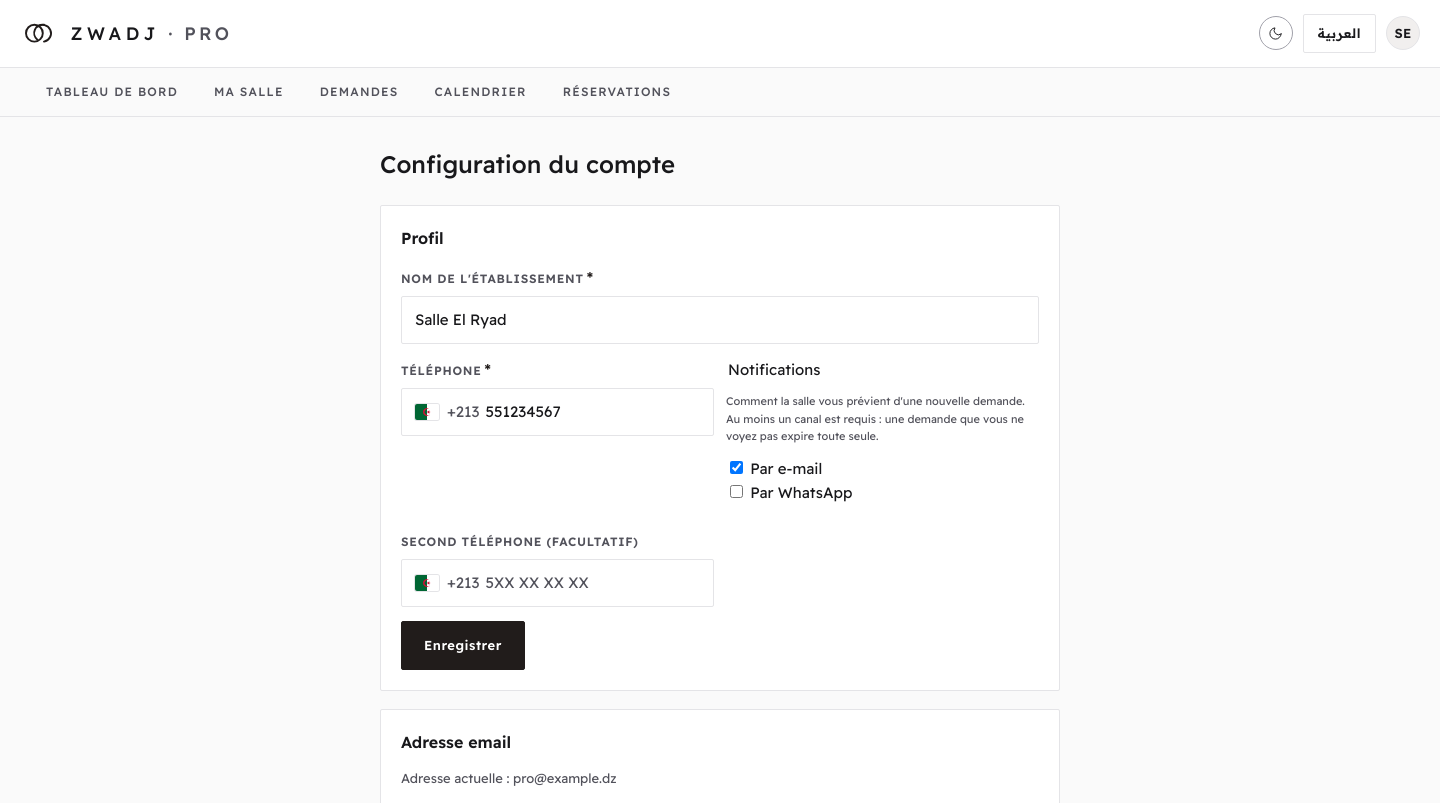
Test: écran profil — les deux numéros du pro (D38) sont le champ de téléphone PARTAGÉ › ⚠ un numéro INCOMPLET est refusé AVANT l'envoi, par le schéma partagé : aucun appel
Replace the text in the field labelled "Téléphone" with "5" at (593, 412), box [486,400,700,424]
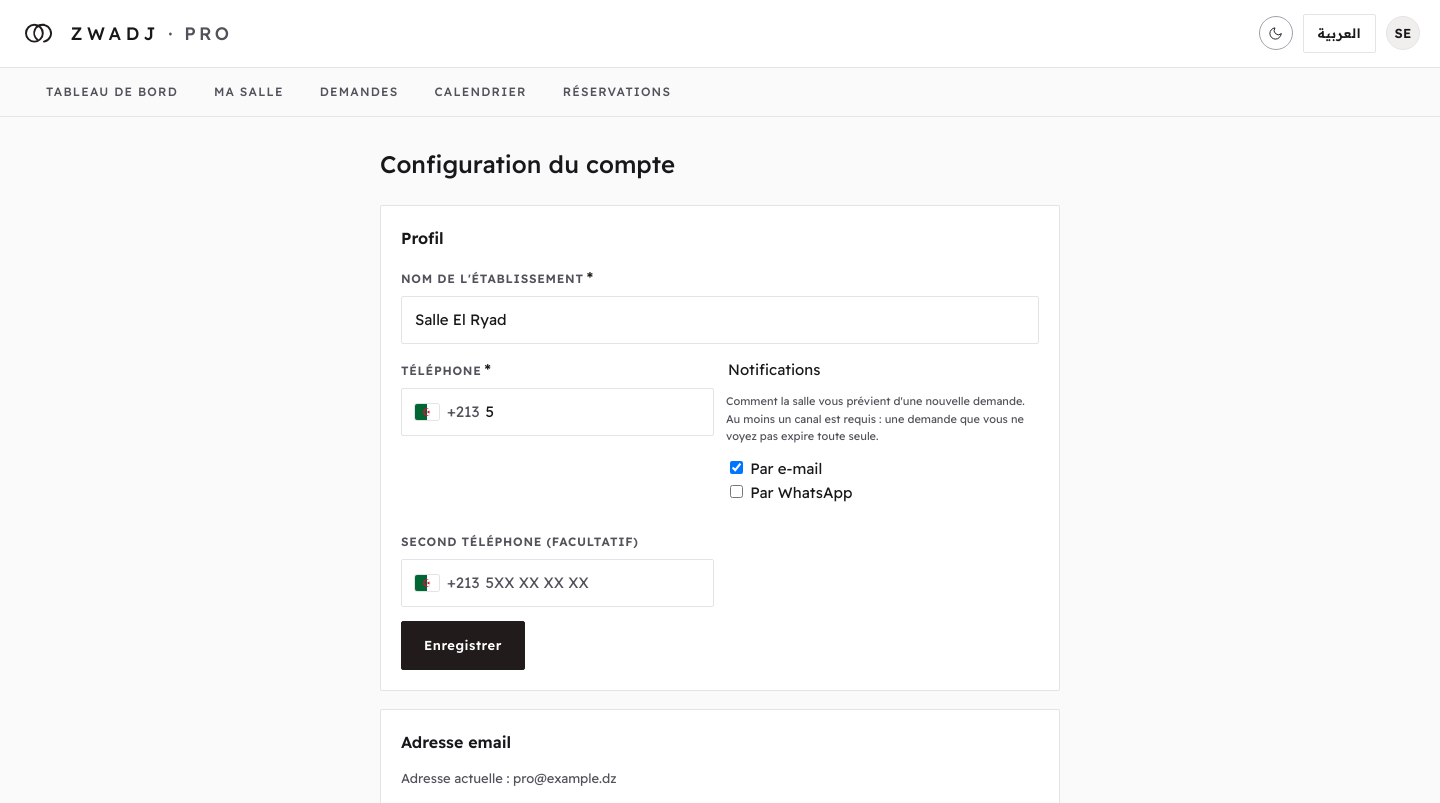
Replace the text in the field labelled "Téléphone" with "51" at (593, 412), box [486,400,700,424]
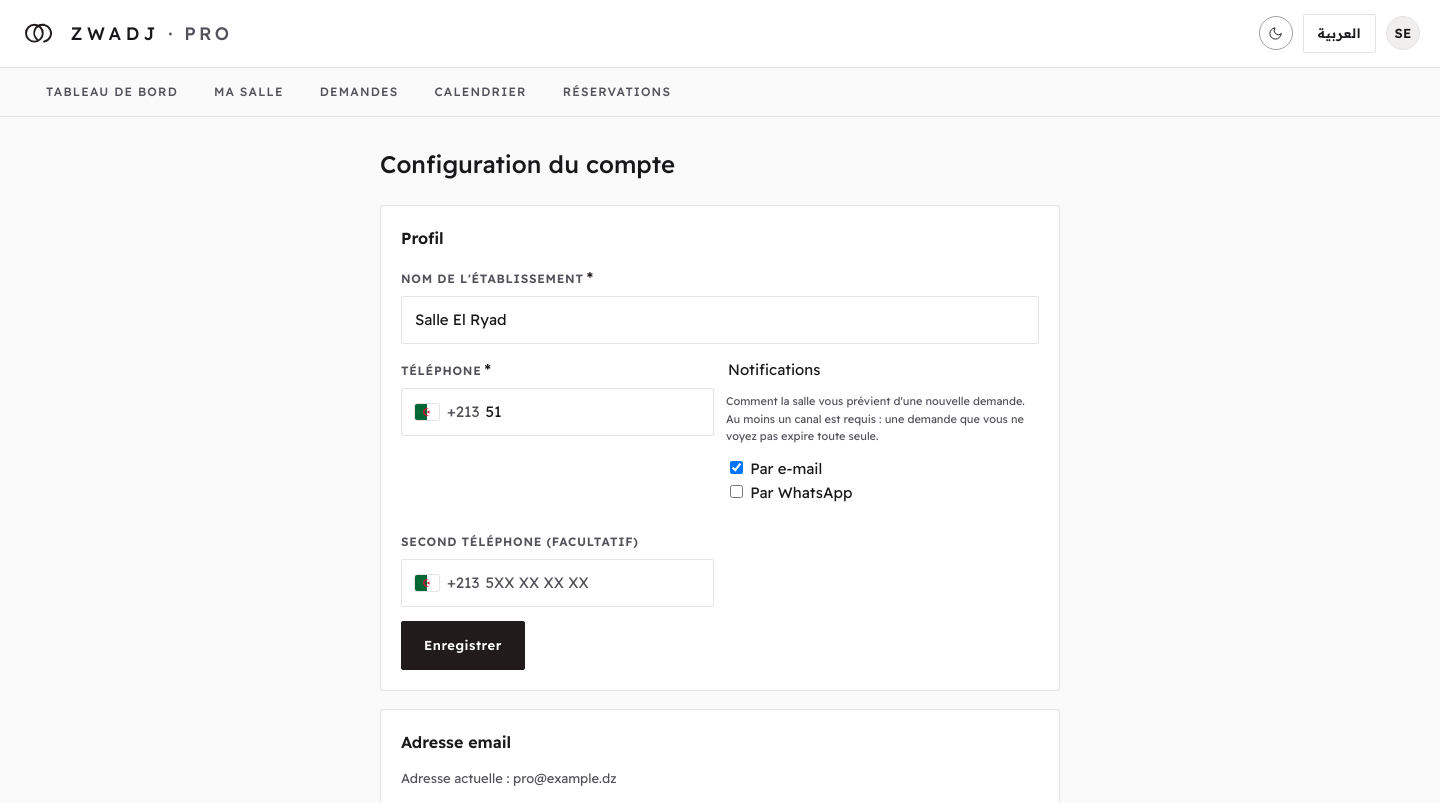
Replace the text in the field labelled "Téléphone" with "512" at (593, 412), box [486,400,700,424]
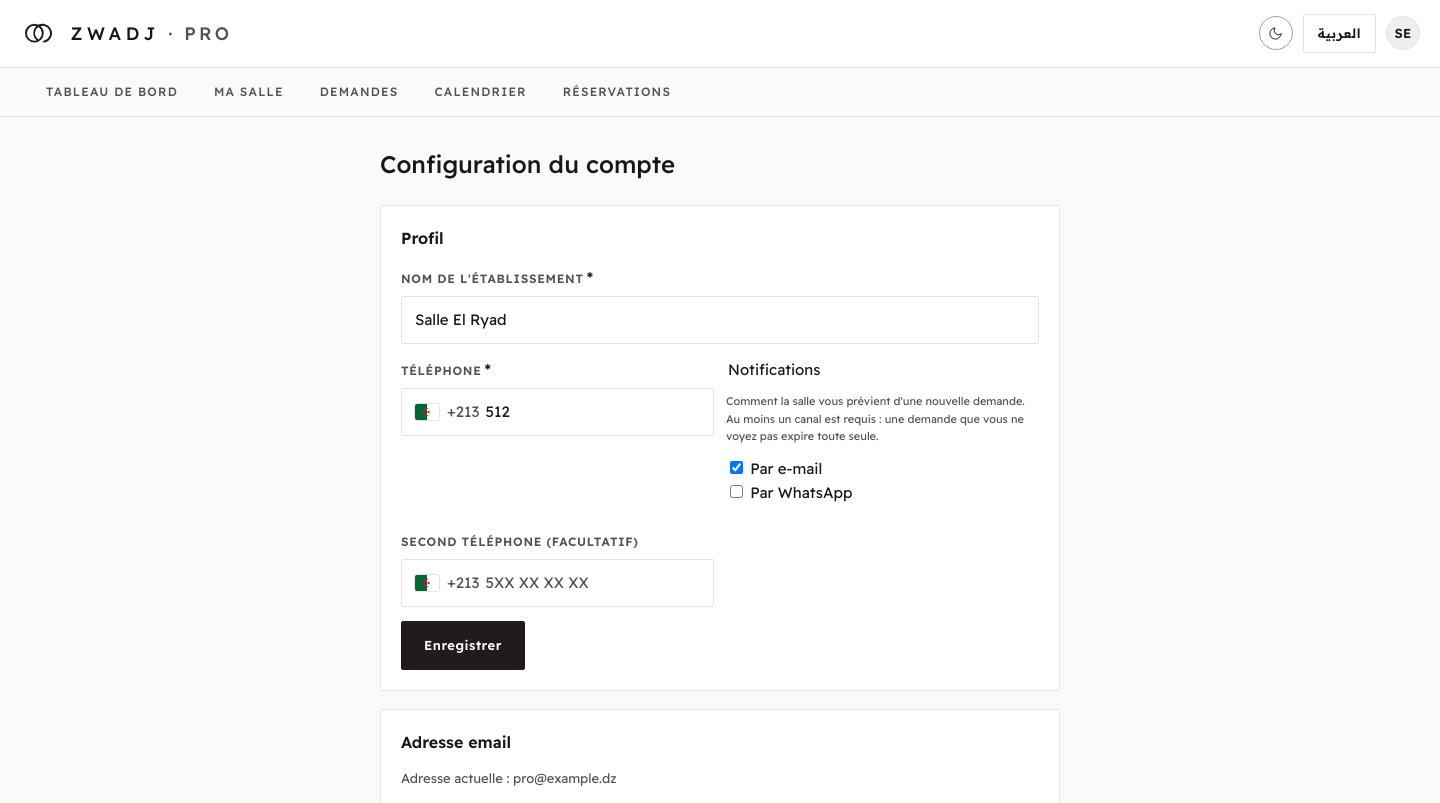
Replace the text in the field labelled "Téléphone" with "5123" at (593, 412), box [486,400,700,424]
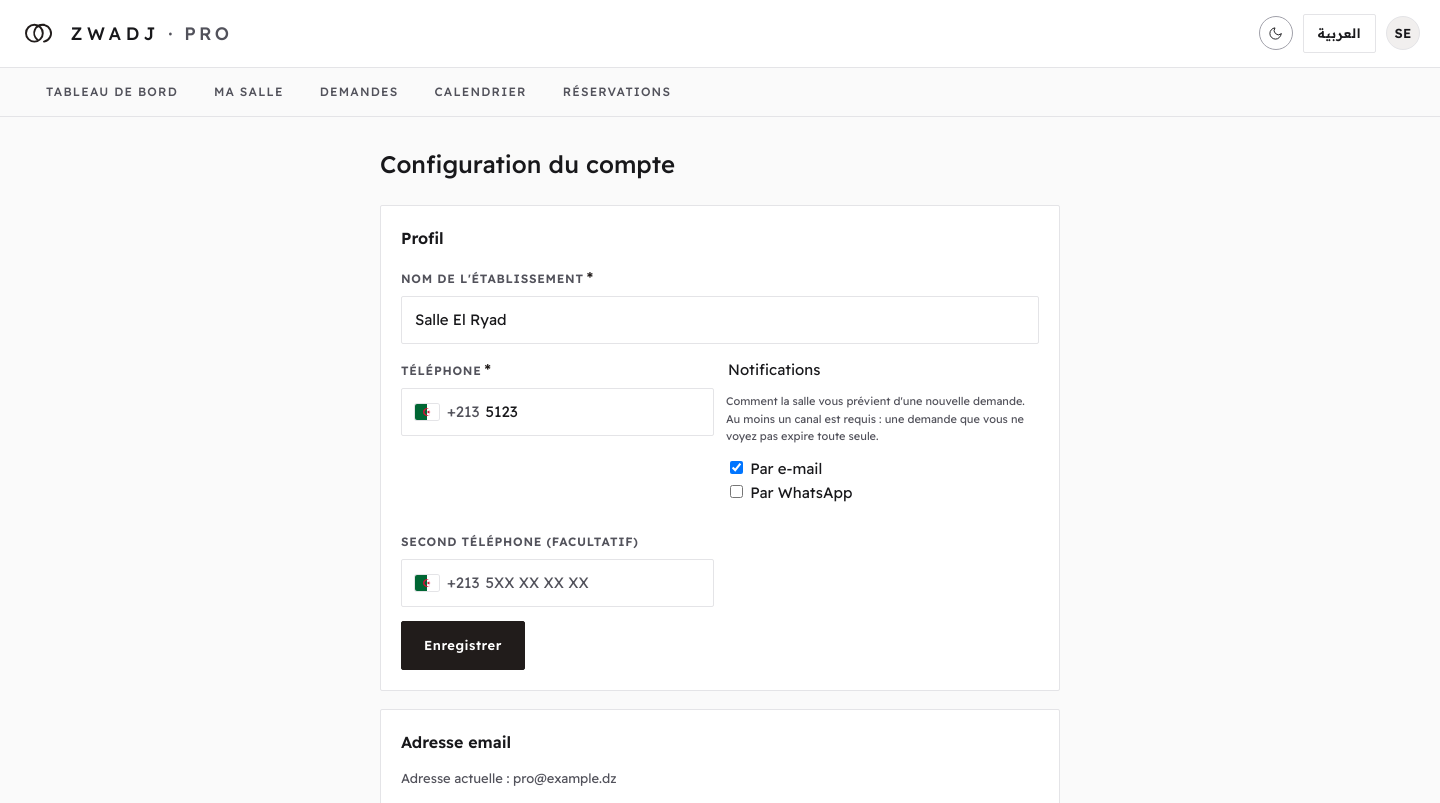
Click the button "Enregistrer" at (463, 645), box [401,621,525,670]
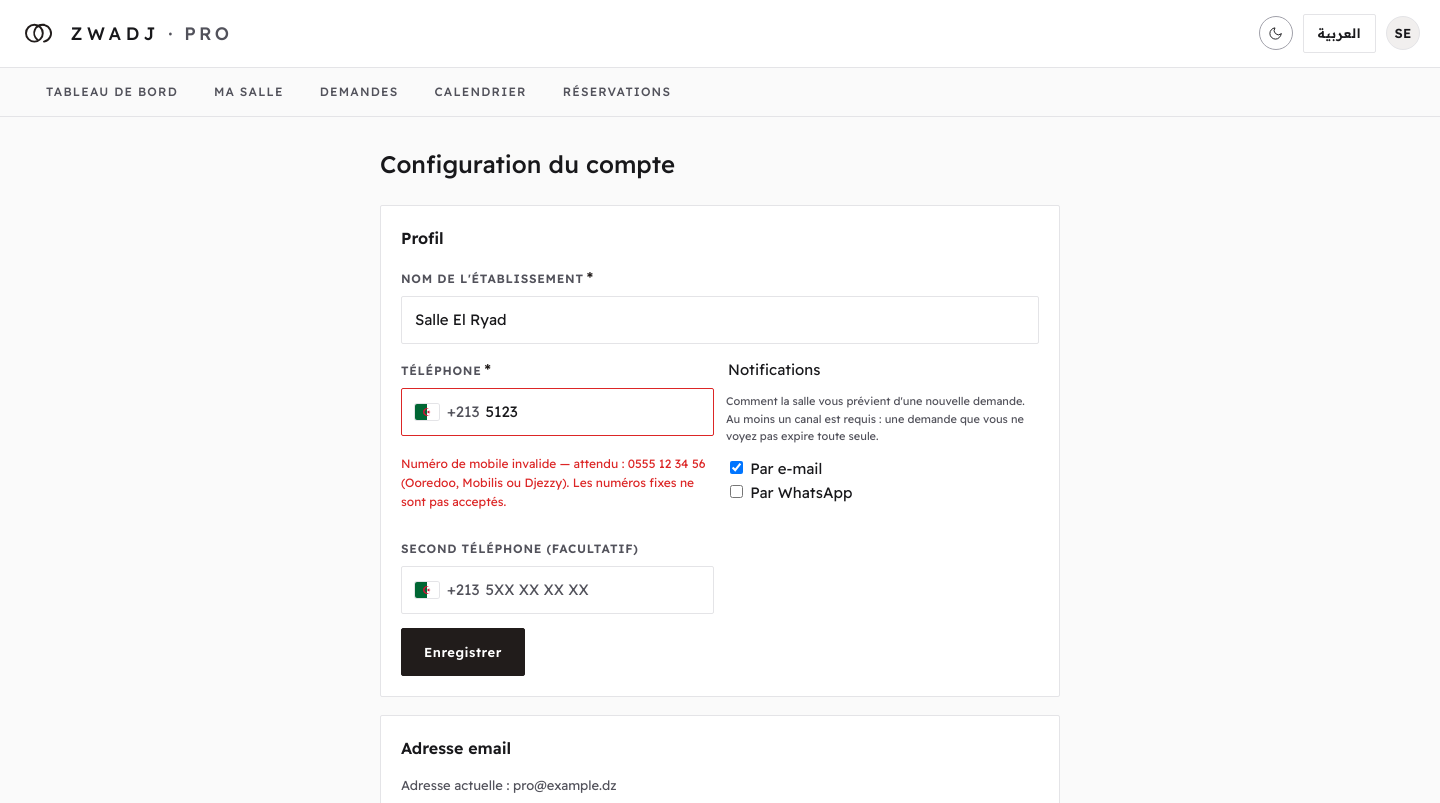
expect the text "Numéro de mobile invalide — attendu : 0555 12 34 56 (Ooredoo, Mobilis ou Djezzy). Les numéros fixes ne sont pas acceptés" is shown: met, box [401,456,705,509]
